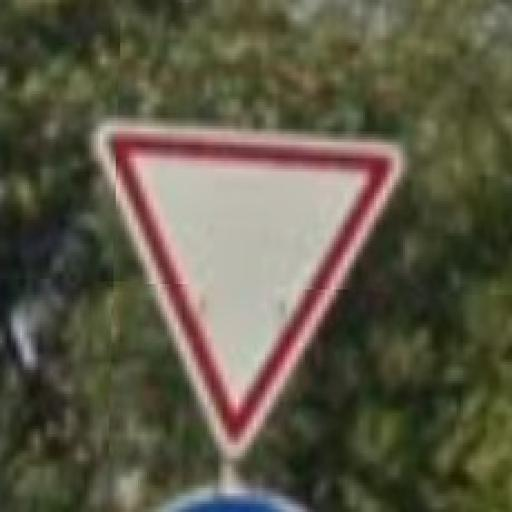traffic_sign: (92, 119, 411, 467)
